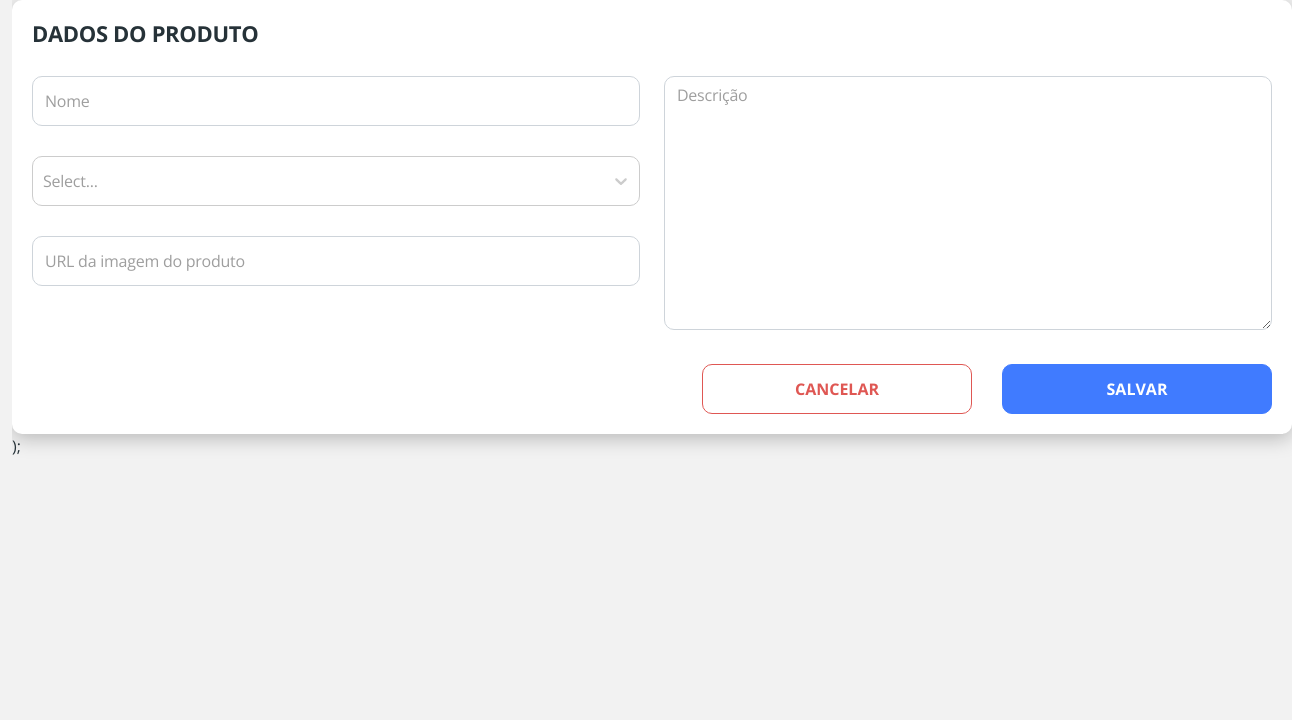
Product form create tests › should  show 5 validation messages when just clicking submit
This screenshot has width=1292, height=720.
Click the button "SALVAR". click: (1137,389)
box: [1002, 364, 1272, 414]
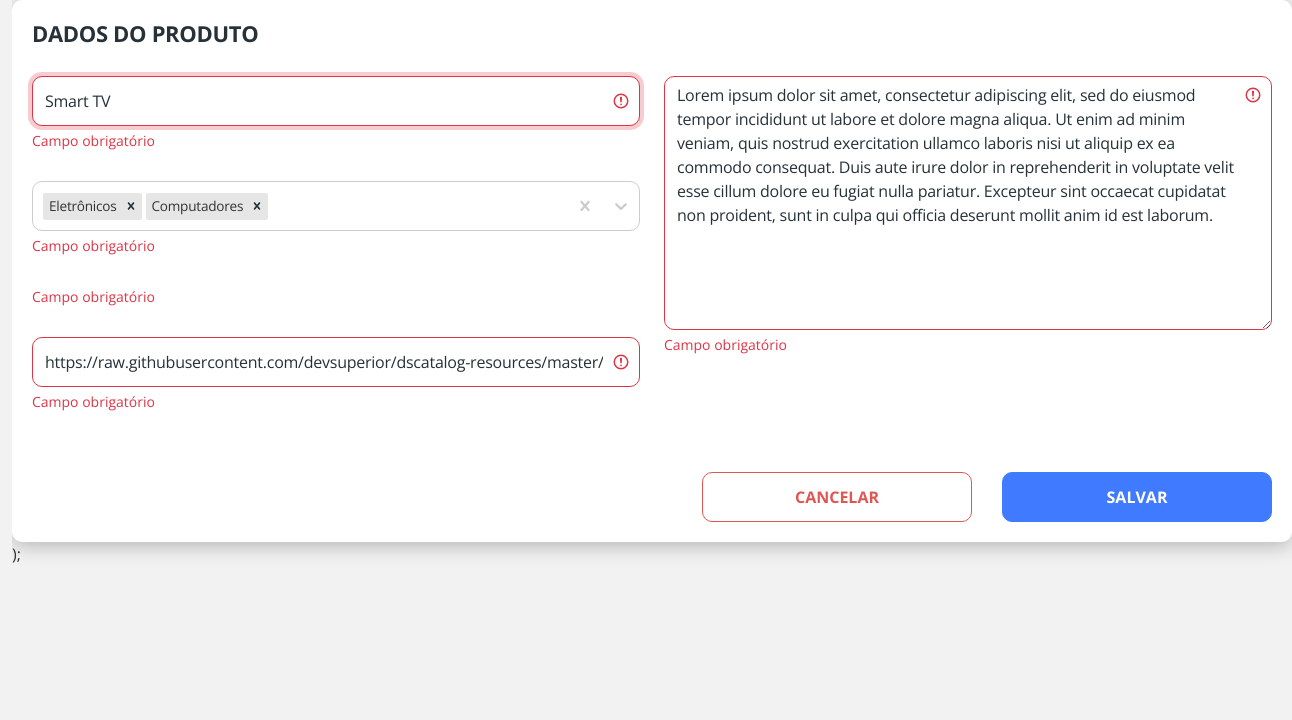
Now the text "Campo obrigatório" is shown 5 times, box [32, 131, 155, 150]; [32, 236, 155, 255]; [32, 287, 155, 306]; [32, 392, 155, 411]; [664, 335, 787, 354]
